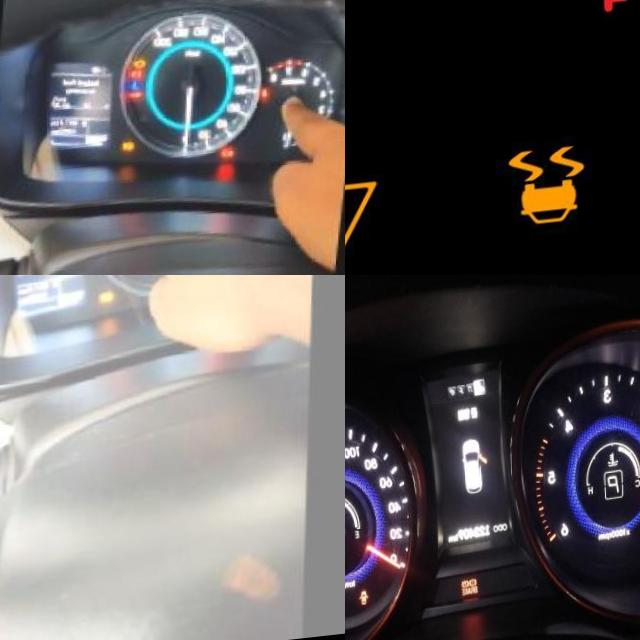Doors: (357, 593, 367, 608)
Engine cooling system: (134, 93, 143, 103)
High Engine Coolant Temperature: (555, 0, 640, 41)
